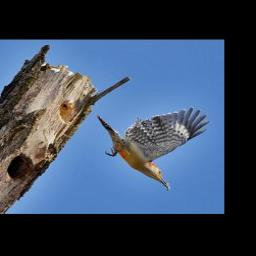Woodpecker: (97, 106, 211, 191)
